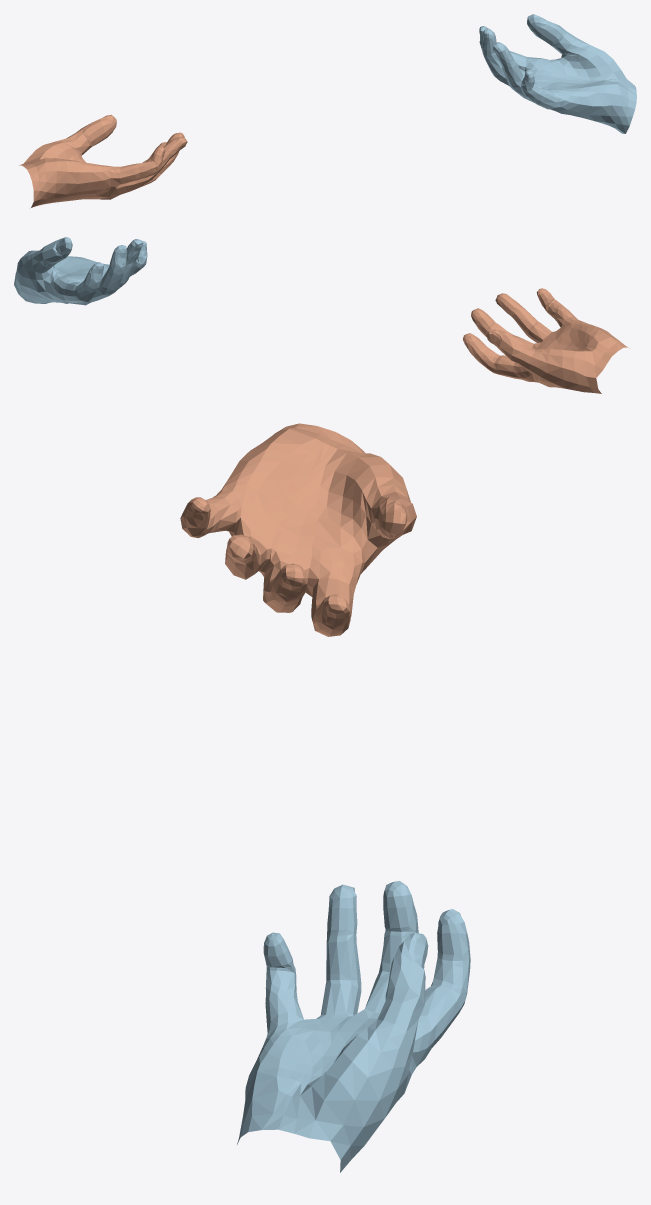
Rendered from frame_003.glb.
3 renders of one model, top to bottom at view 1: azimuth 30°, elevation 25°; view 2: azimuth 150°, elevation 25°; view 3: azimuth 270°, elevation 25°, orthographic. The views are drawn at different scales.
Visible parts, largest first — view 1: world; view 2: world; view 3: world.
Boxes of the visible parts, x1=… form: world: x1=19, y1=14, x2=636, y2=207; world: x1=14, y1=237, x2=629, y2=393; world: x1=180, y1=423, x2=470, y2=1172.
Size of the model in its own units: 0.6211 by 0.1129 by 0.1294.
